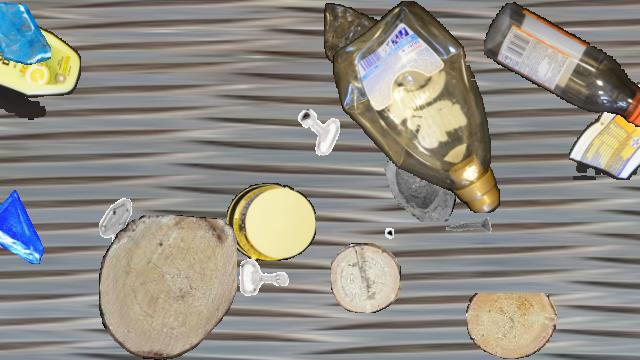glass: (369, 132, 459, 222), (0, 190, 52, 264), (0, 1, 51, 65)
metal: (233, 247, 295, 309), (85, 196, 145, 256), (441, 204, 493, 256), (344, 199, 394, 249), (295, 107, 343, 155)
plastic: (333, 1, 501, 213), (484, 1, 640, 129), (0, 18, 80, 120), (569, 82, 640, 180), (227, 183, 315, 261), (324, 1, 398, 71)
wood: (99, 215, 237, 359), (466, 293, 556, 359), (331, 243, 401, 313)
